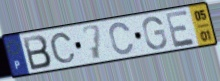7: (80, 23, 102, 62)
B: (21, 34, 53, 72)
C: (108, 21, 136, 56), (49, 32, 78, 65)
E: (164, 8, 198, 49)
G: (141, 15, 169, 51)
